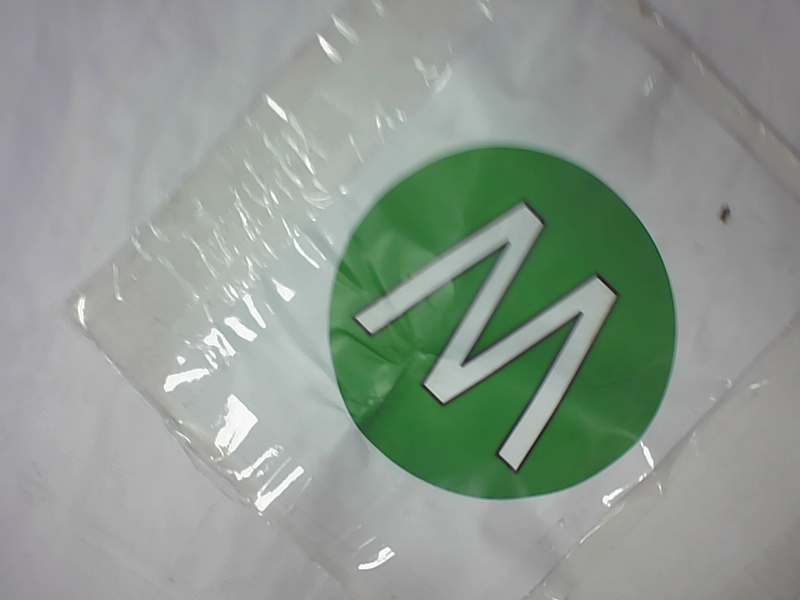areaB: (335, 136, 675, 508)
